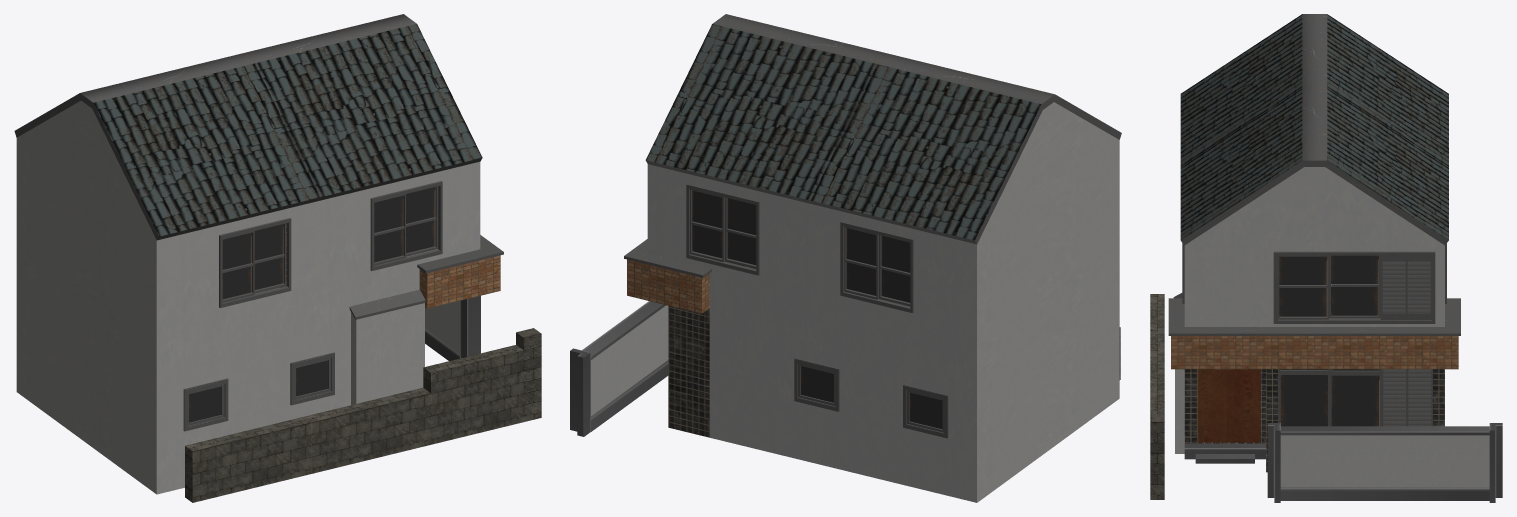
The model's file is tokyo-house-a.glb.
3 views of the same model, side by side, from view 1: azimuth 30°, elevation 25°; view 2: azimuth 150°, elevation 25°; view 3: azimuth 270°, elevation 25° (orthographic). The views are drawn at different scales.
Parts seen in each view (by area): view 1: JapaneseResidentialHome_01; view 2: JapaneseResidentialHome_01; view 3: JapaneseResidentialHome_01.
Boxes of the visible parts, <box> form: JapaneseResidentialHome_01: <box>14,14,541,502</box>; JapaneseResidentialHome_01: <box>570,14,1121,502</box>; JapaneseResidentialHome_01: <box>1150,14,1502,502</box>.
Size of the model in its own units: 921 by 816 by 811.
Materials: 2 (2 with a texture image).
